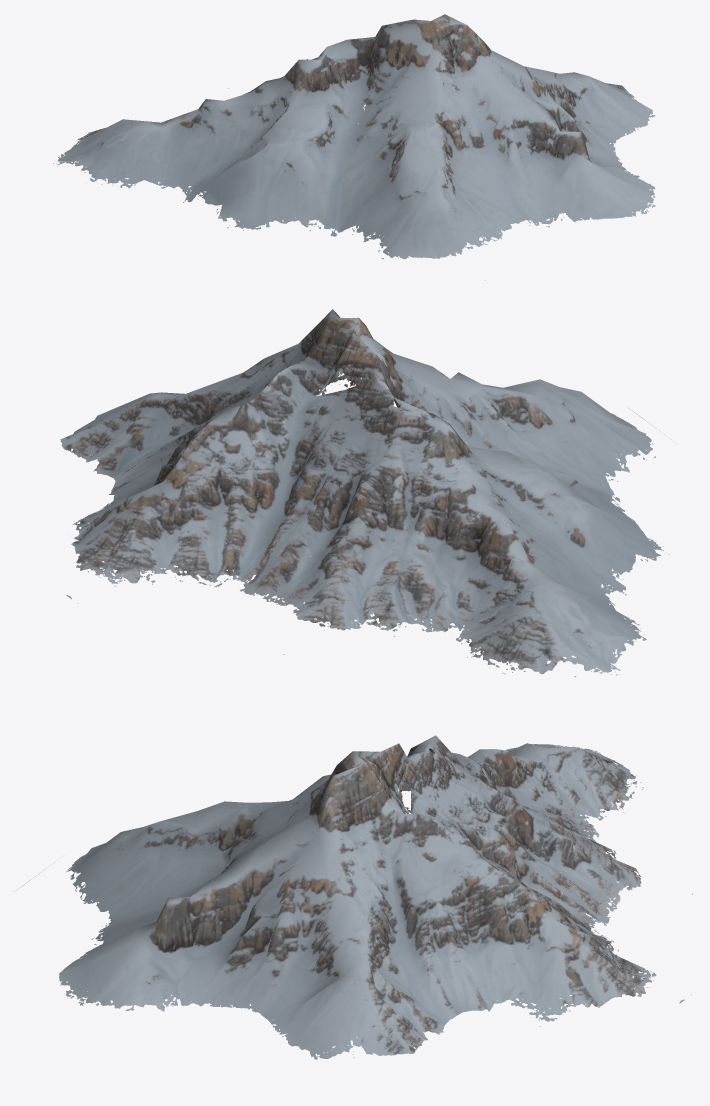
Rendered from Env_Map_Mt_North_3H_3W_B01.fbx.
3 renders of one model, top to bottom at view 1: azimuth 30°, elevation 25°; view 2: azimuth 150°, elevation 25°; view 3: azimuth 270°, elevation 25°, orthographic. The views are drawn at different scales.
Visible parts, largest first — view 1: Mt_North_3H_3W_B01; view 2: Mt_North_3H_3W_B01; view 3: Mt_North_3H_3W_B01.
Boxes of the visible parts, x1,y1,x2,y2 form: Mt_North_3H_3W_B01: [53, 14, 655, 280]; Mt_North_3H_3W_B01: [60, 309, 675, 677]; Mt_North_3H_3W_B01: [14, 735, 692, 1059].
Size of the model in its own units: 350 by 88.44 by 289.
Materials: 1 (1 with a texture image).
